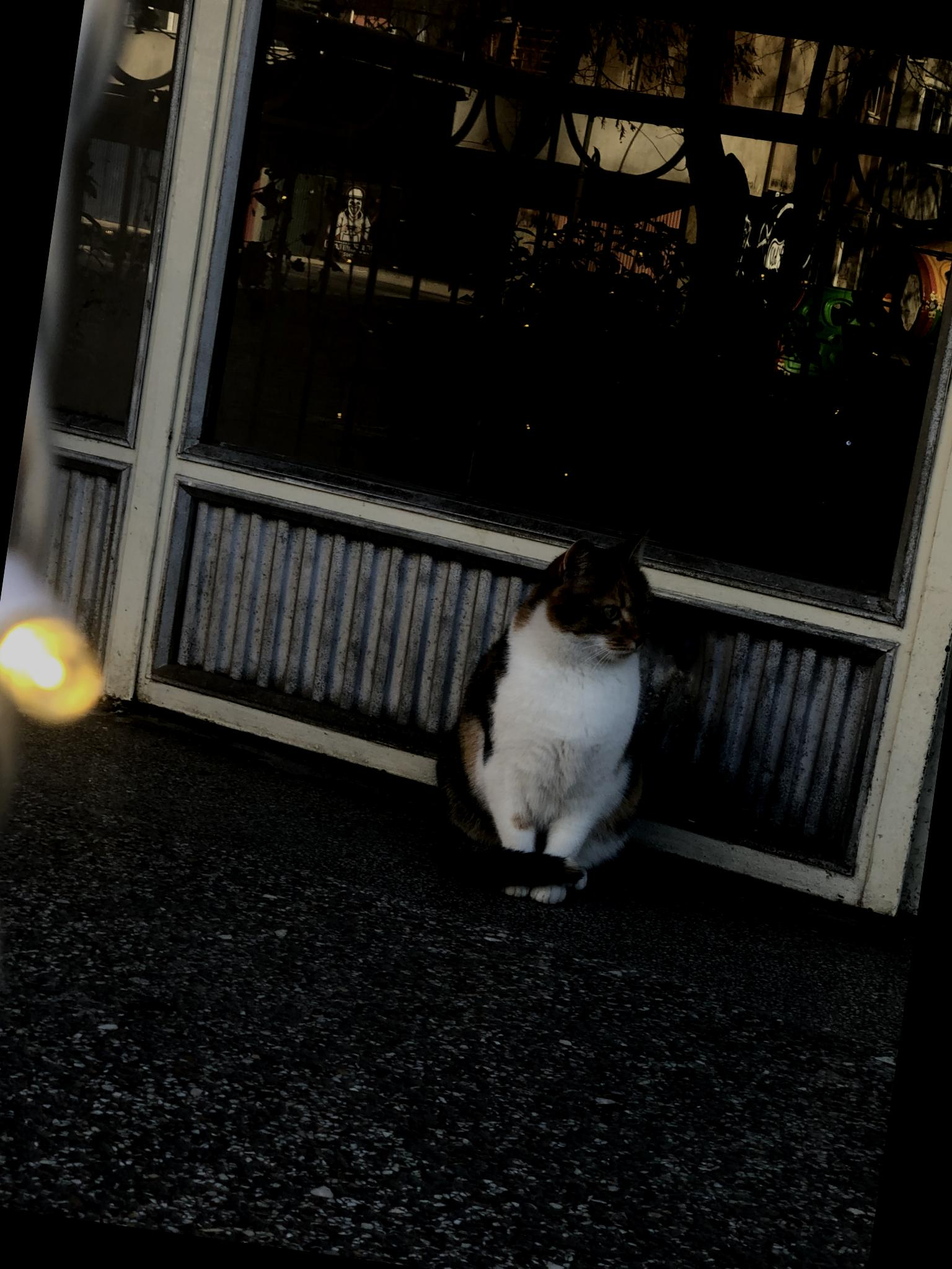macka: (421, 499, 681, 916)
